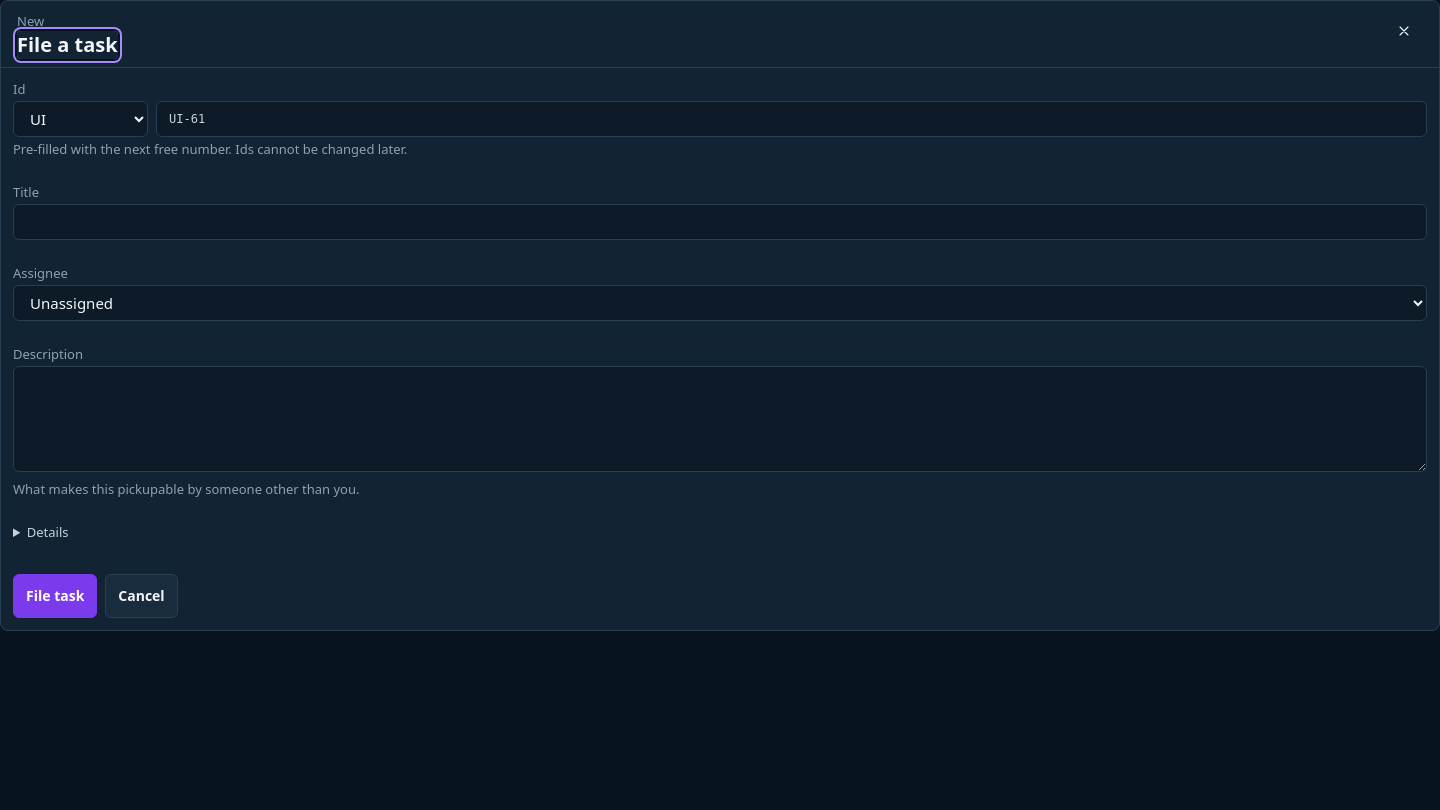
it: TaskCreatePanel › refuses an empty title on the field, and sends nothing
Step 1. Click the button "File task" → (55, 596), box [13,574,97,618]
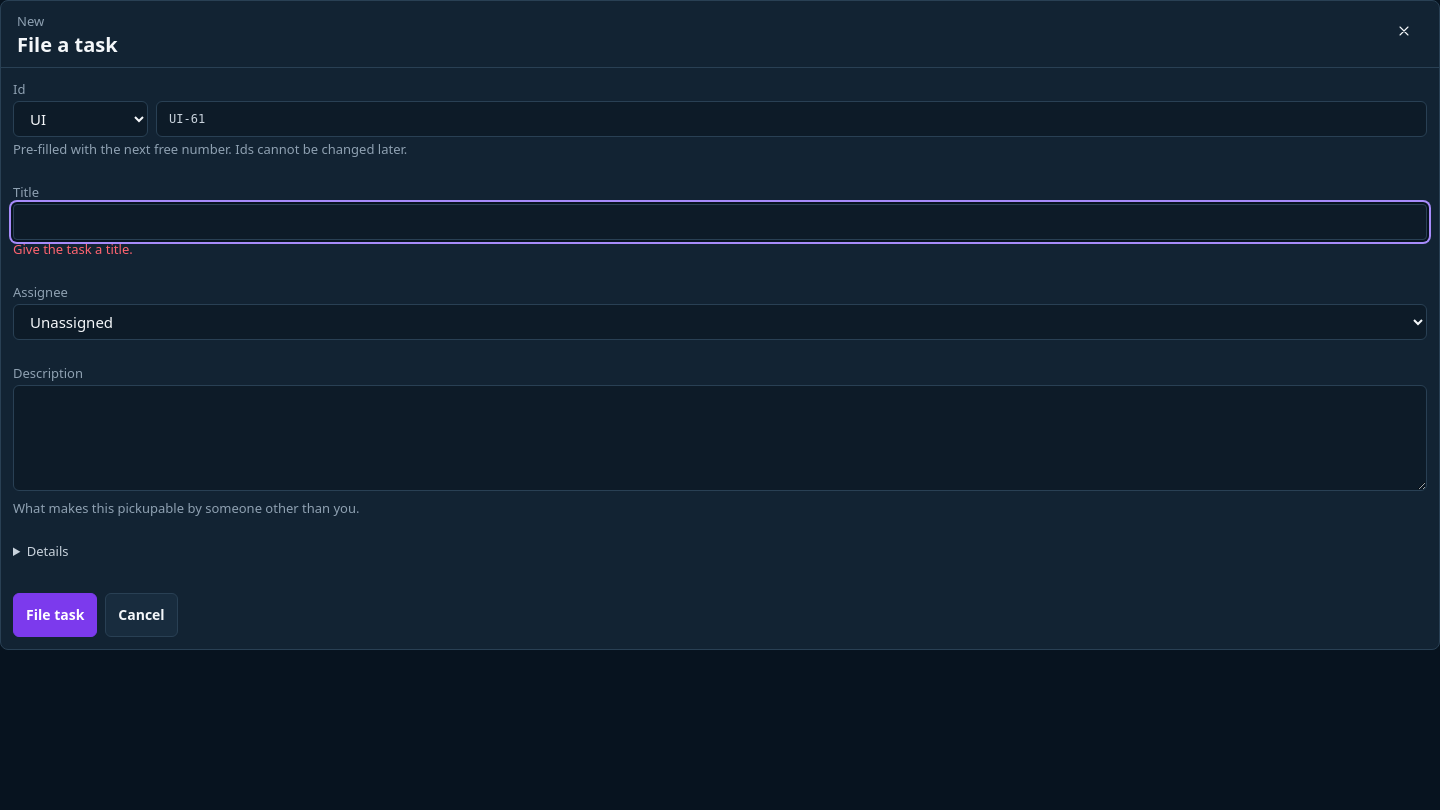
Check: the message shows "title", box [13,240,133,258]
